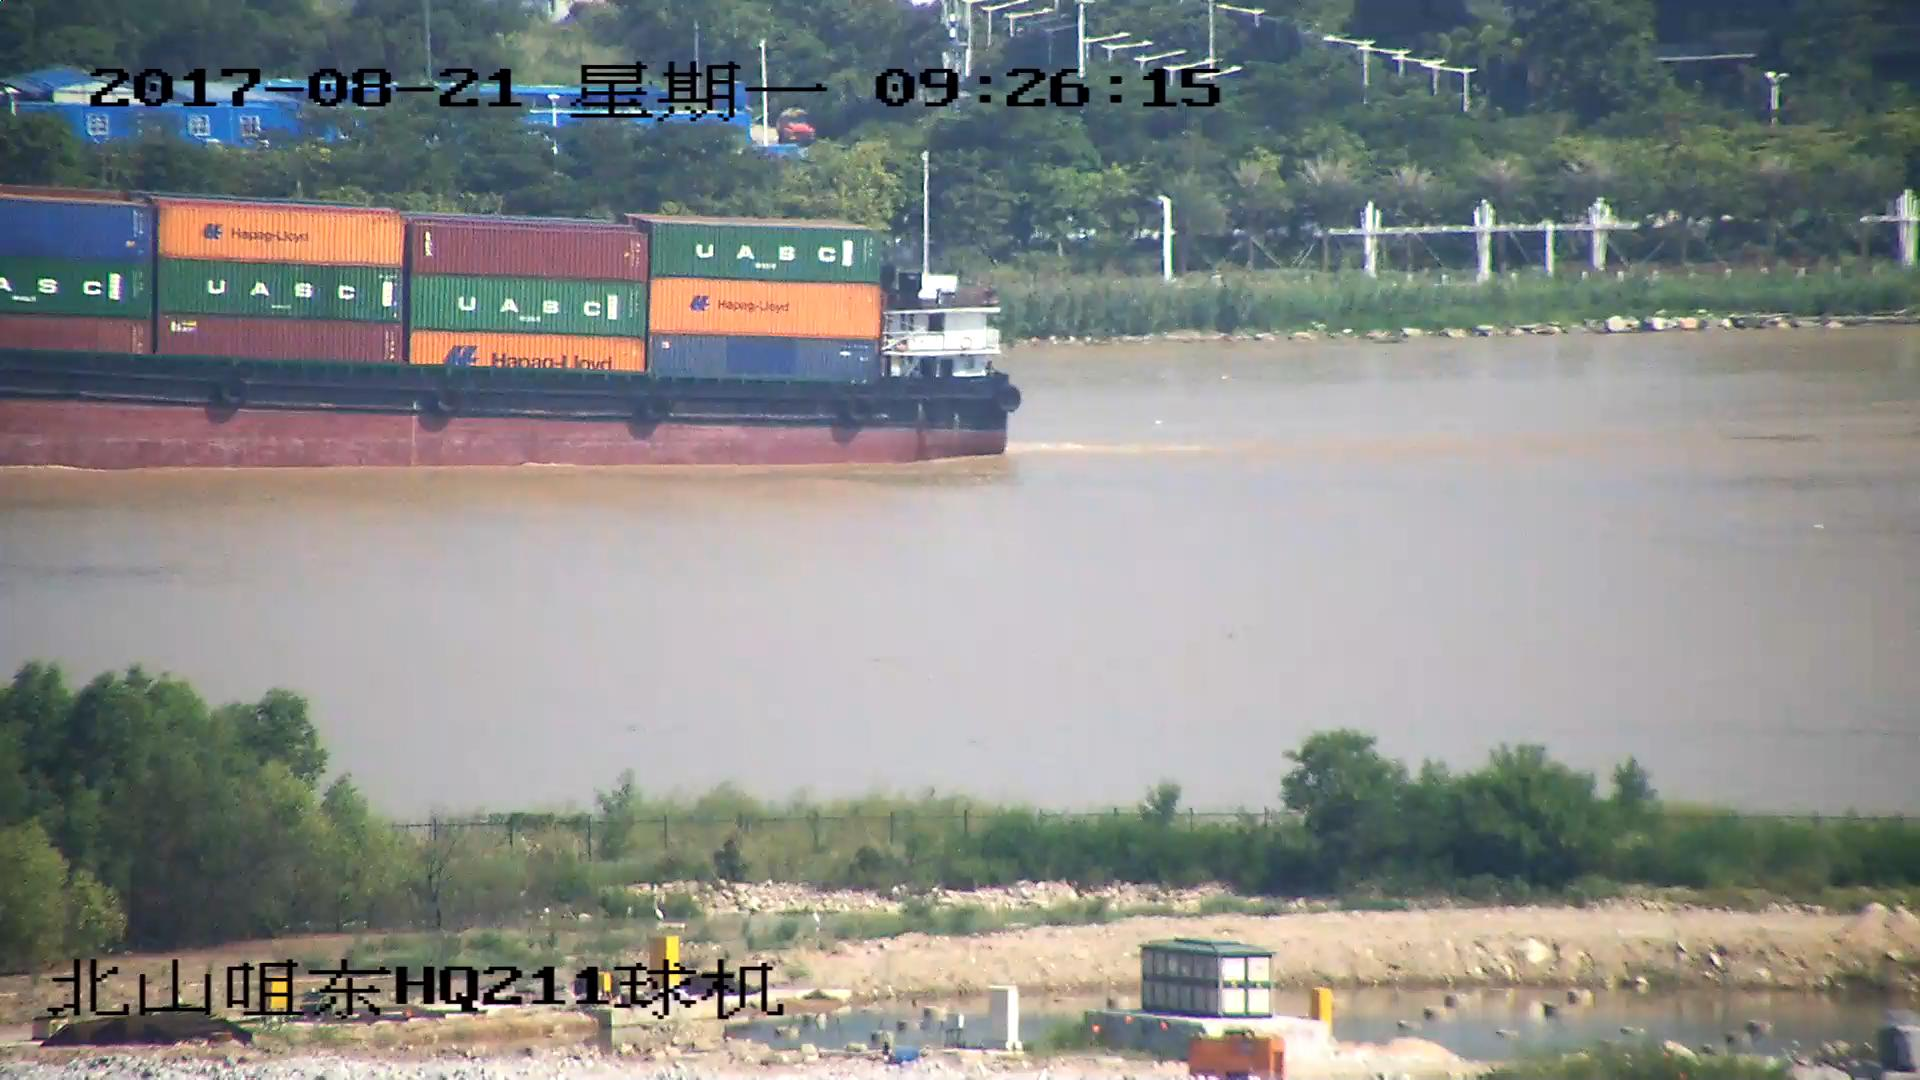container ship: (1, 157, 1021, 471)
